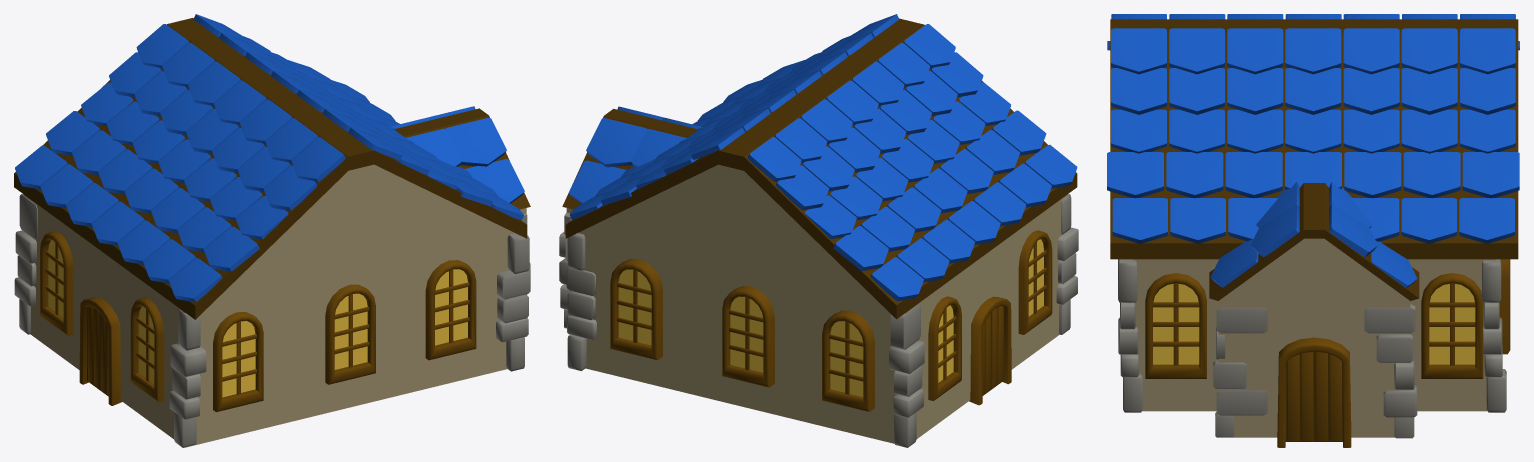
The model's file is House_Level2_BlueTeam.glb.
3 renders of one model, left to right at view 1: azimuth 30°, elevation 25°; view 2: azimuth 150°, elevation 25°; view 3: azimuth 270°, elevation 25°, orthographic. The views are drawn at different scales.
Parts seen in each view (by area): view 1: House_Level2_BlueTeam; view 2: House_Level2_BlueTeam; view 3: House_Level2_BlueTeam.
Part boxes in pixels (left/top/right/bottom): House_Level2_BlueTeam: left=14, top=14, right=530, bottom=447; House_Level2_BlueTeam: left=559, top=14, right=1078, bottom=447; House_Level2_BlueTeam: left=1107, top=14, right=1519, bottom=447.
Size of the model in its own units: 19.98 by 12.82 by 15.83.
